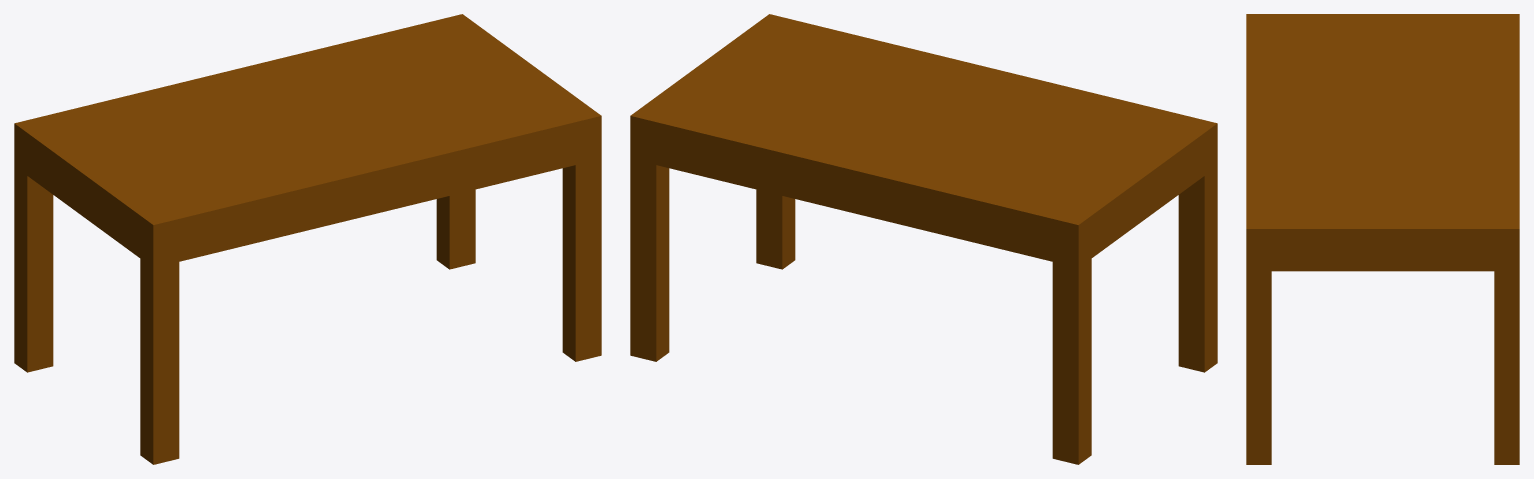
The model's file is Table.fbx.
3 renders of one model, left to right at view 1: azimuth 30°, elevation 25°; view 2: azimuth 150°, elevation 25°; view 3: azimuth 270°, elevation 25°, orthographic.
Parts seen in each view (by area): view 1: Cube.004; view 2: Cube.004; view 3: Cube.004.
Part boxes in pixels (x1,y1,x2,y2): Cube.004: (14,14,601,464); Cube.004: (630,14,1217,464); Cube.004: (1246,14,1519,464).
Size of the model in its own units: 112 by 57.08 by 60.02.
